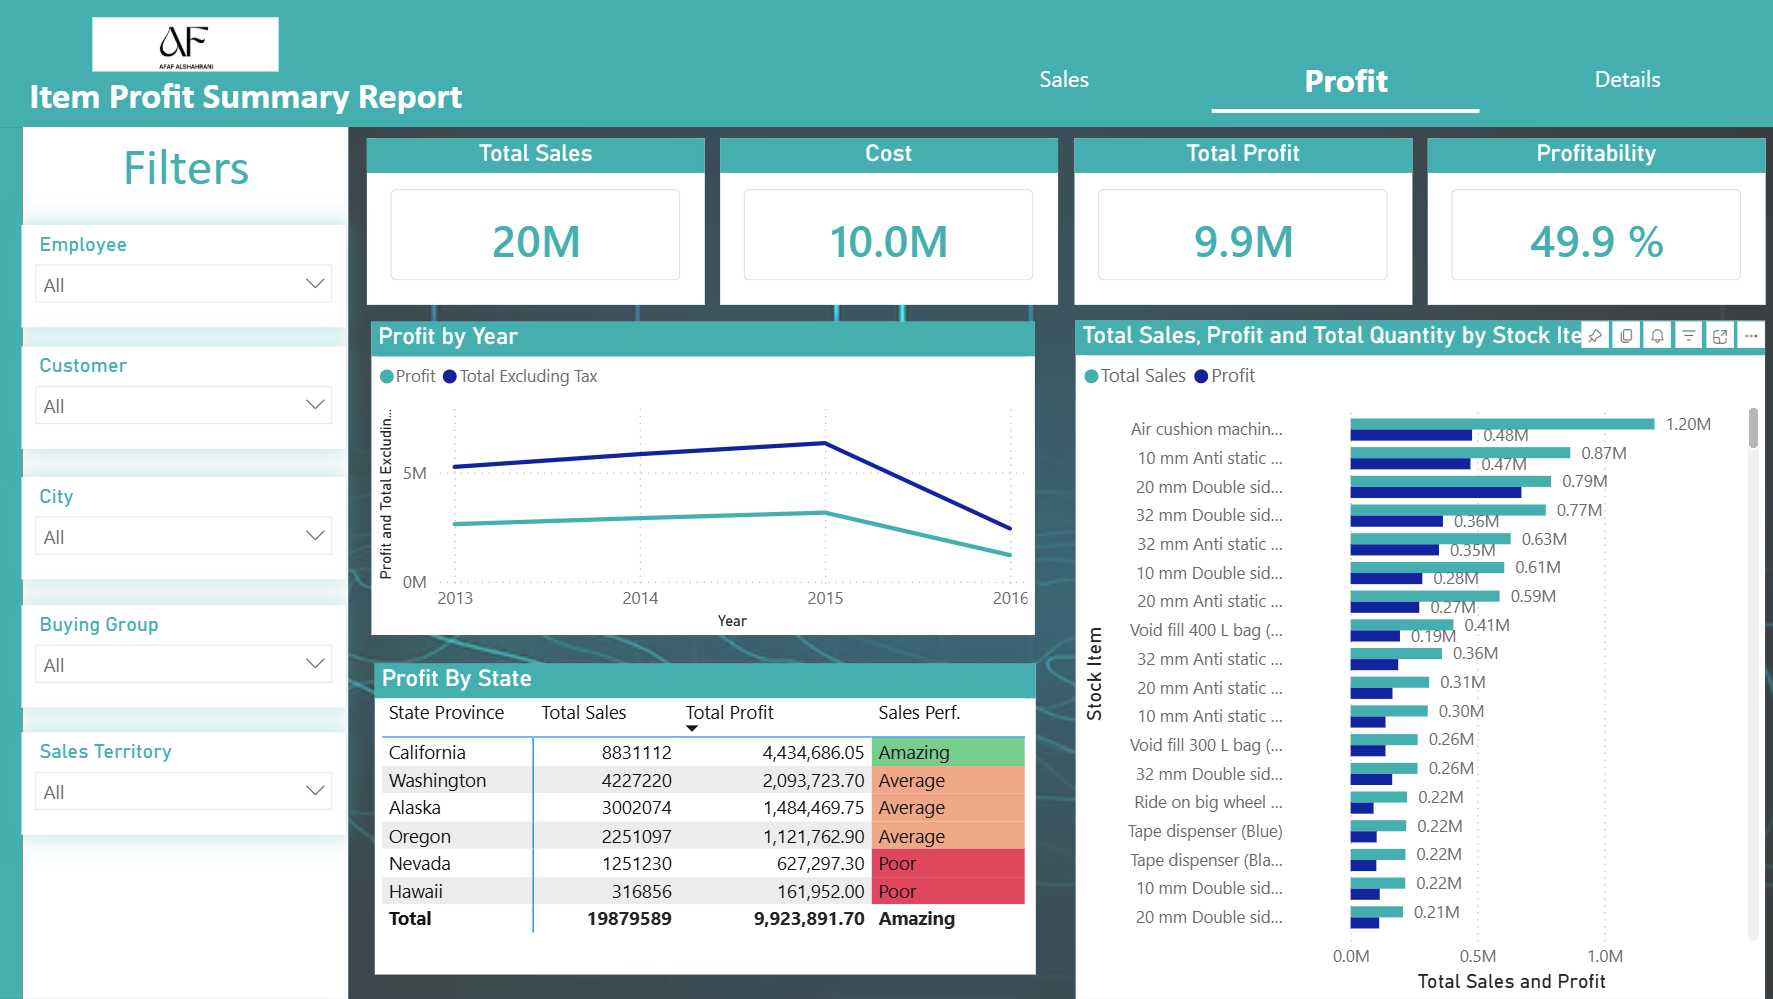

The dashboard page shown, as its layout file describes it:
{"tool":"powerbi","page":{"name":"Profit","canvas":[1280,720],"ordinal":1},"visuals":[{"type":"shape","box":[0,0,1280,91.7],"z":0},{"type":"shape","box":[0,91.7,16.7,628.3],"z":1000},{"type":"shape","box":[16.7,91.7,235,628.3],"z":2000},{"type":"image","box":[67.1,0,134.3,64.3],"z":3000},{"type":"textbox","box":[16.7,46.7,345,53.3],"z":4000},{"type":"cardVisual","title":"Total Sales","fields":{"Data":["FactSale.Total Sales"]},"box":[265,100,243.3,120],"z":5000},{"type":"cardVisual","title":"Total Profit","fields":{"Data":["Sum(FactSale.Profit)"]},"box":[775,100,243.3,120],"z":6000},{"type":"cardVisual","title":"Cost","fields":{"Data":["Sum(FactSale.Cost)"]},"box":[520,100,243.3,120],"z":7000},{"type":"cardVisual","title":"Profitability","fields":{"Data":["FactSale.Profitability"]},"box":[1030,100,243.3,120],"z":8000},{"type":"textbox","box":[18,92,234,86],"z":9000},{"type":"lineChart","title":"Profit by Year","fields":{"Y":["Sum(FactSale.Profit)","Sum(FactSale.Total Excluding Tax)"],"Category":["DimDate.Date.Variation.Date Hierarchy.Year","DimDate.Date.Variation.Date Hierarchy.Quarter","DimDate.Date.Variation.Date Hierarchy.Month","DimDate.Date.Variation.Date Hierarchy.Day"]},"box":[268.7,232,478,226],"z":10000},{"type":"clusteredBarChart","fields":{"Category":["DimStockItem.Stock Item"],"Y":["Sum(FactSale.Total Excluding Tax)","Sum(FactSale.Profit)"]},"box":[775.7,231.4,497.1,488.6],"z":11000},{"type":"pivotTable","title":"Profit By State","fields":{"Values":["Sum(FactSale.Total Excluding Tax)","Sum(FactSale.Profit)","FactSale.Sales Perf."],"Rows":["DimCity.State Province"]},"box":[270.7,478,476,224],"z":12000},{"type":"slicer","fields":{"Values":["DimEmployee.Employee"]},"box":[16,162,234,74],"z":13000},{"type":"slicer","fields":{"Values":["DimCustomer.Customer"]},"box":[16,250,234,74],"z":14000},{"type":"slicer","fields":{"Values":["DimCity.City"]},"box":[16,344,234,74],"z":15000},{"type":"slicer","fields":{"Values":["DimCustomer.Buying Group"]},"box":[16,436,234,74],"z":16000},{"type":"slicer","fields":{"Values":["DimCity.Sales Territory"]},"box":[16,528,234,74],"z":17000},{"type":"pageNavigator","box":[671.7,31.7,600,50],"z":18000}]}

Visuals, with their boxes in screenshot pixels (x1, y1, x2, y2), scaled from the page's 1280x720 canvas onto the 1773x999 screenshot:
shape: locate(0, 0, 1772, 127)
shape: locate(0, 127, 23, 998)
shape: locate(23, 127, 349, 998)
image: locate(93, 0, 279, 89)
textbox: locate(23, 65, 501, 139)
"Total Sales" cardVisual: locate(367, 139, 704, 305)
"Total Profit" cardVisual: locate(1073, 139, 1411, 305)
"Cost" cardVisual: locate(720, 139, 1057, 305)
"Profitability" cardVisual: locate(1427, 139, 1764, 305)
textbox: locate(25, 128, 349, 247)
"Profit by Year" lineChart: locate(372, 322, 1034, 635)
clusteredBarChart - DimStockItem.Stock Item x Sum(FactSale.Total Excluding Tax): locate(1074, 321, 1763, 998)
"Profit By State" pivotTable: locate(375, 663, 1034, 974)
slicer - DimEmployee.Employee: locate(22, 225, 346, 327)
slicer - DimCustomer.Customer: locate(22, 347, 346, 450)
slicer - DimCity.City: locate(22, 477, 346, 580)
slicer - DimCustomer.Buying Group: locate(22, 605, 346, 708)
slicer - DimCity.Sales Territory: locate(22, 733, 346, 835)
pageNavigator: locate(930, 44, 1762, 113)
